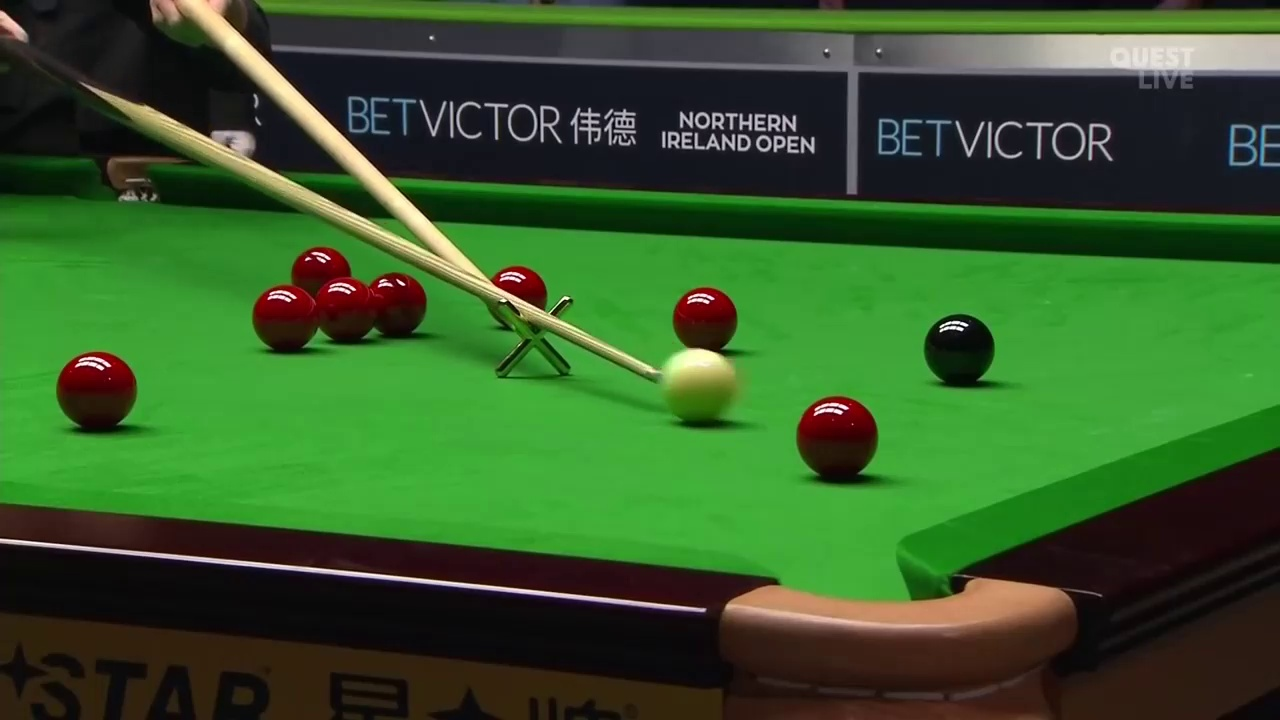black: (921, 314, 996, 385)
red: (794, 397, 877, 476), (55, 351, 136, 431), (252, 286, 317, 351), (315, 278, 378, 343), (673, 286, 736, 346)
white: (659, 350, 739, 424)
